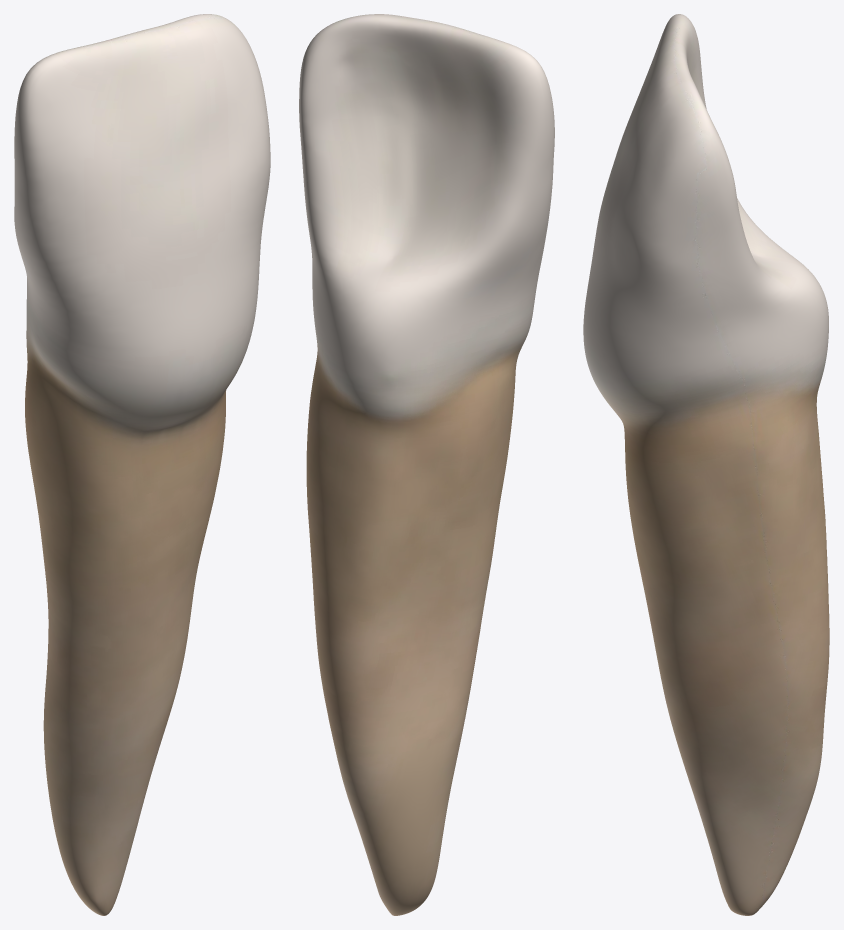
The picture shows the model from 3 angles, left to right: view 1: azimuth 30°, elevation 25°; view 2: azimuth 150°, elevation 25°; view 3: azimuth 270°, elevation 25°; orthographic projection. The views are drawn at different scales.
Visible parts, largest first — view 1: diente-71; view 2: diente-71; view 3: diente-71.
Boxes of the visible parts, <box> form: diente-71: <box>14,14,270,915</box>; diente-71: <box>299,14,554,915</box>; diente-71: <box>583,14,829,915</box>.
Size of the model in its own units: 0.00399 by 0.014 by 0.00362.
1 material, 1 textured.
